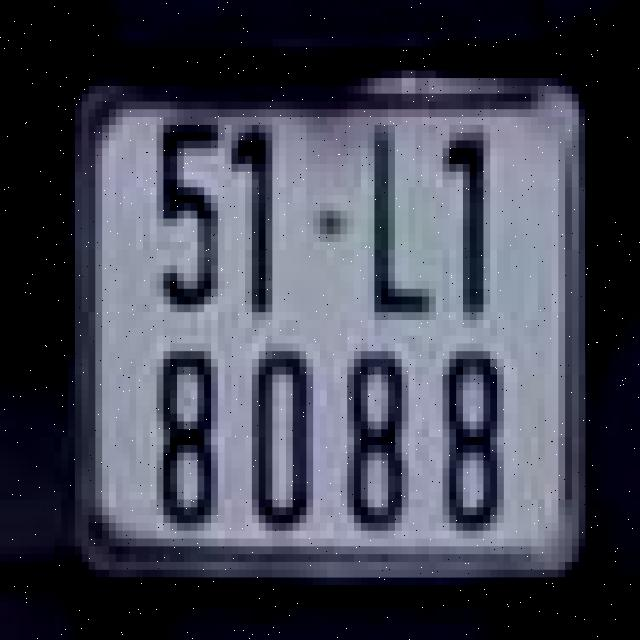0: (238, 344, 327, 538)
1: (446, 113, 494, 324), (232, 125, 279, 320)
5: (150, 109, 224, 312)
8: (330, 340, 419, 542), (432, 348, 521, 542), (143, 340, 225, 550)
L: (361, 113, 436, 324)
